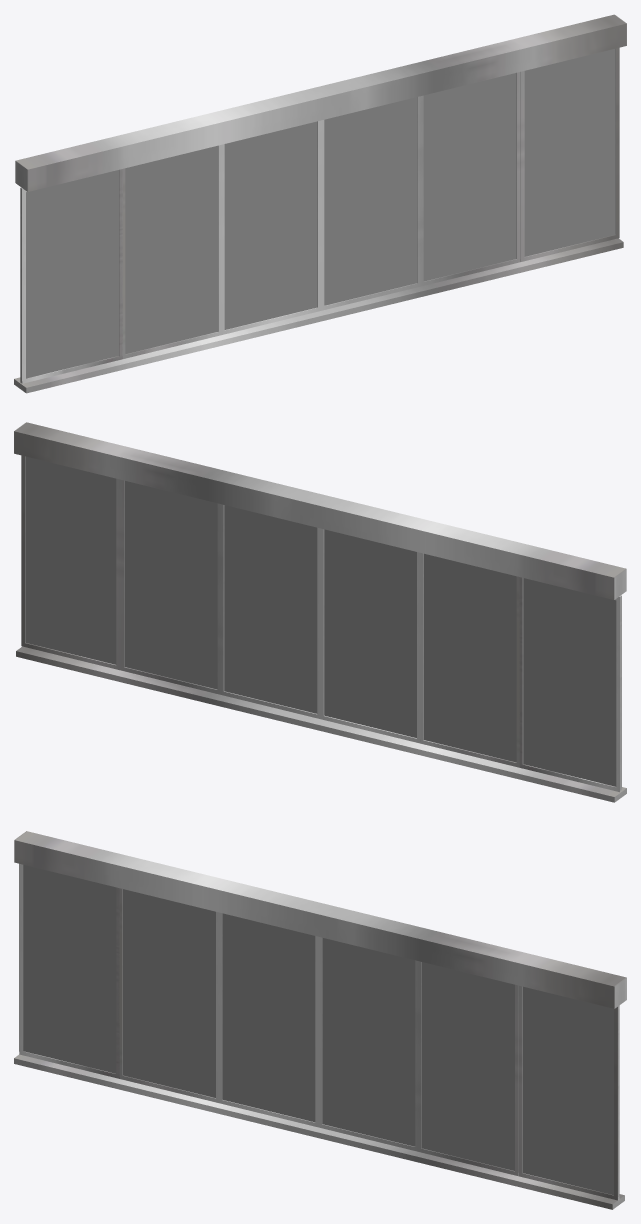
The model's file is door_auto.glb.
3 renders of one model, top to bottom at view 1: azimuth 30°, elevation 25°; view 2: azimuth 150°, elevation 25°; view 3: azimuth 330°, elevation 25°, orthographic.
Visible parts, largest first — view 1: pCube5_lambert2_0, pCube6_blinn1_0; view 2: pCube5_lambert2_0, pCube6_blinn1_0; view 3: pCube5_lambert2_0, pCube6_blinn1_0.
Part boxes in pixels (<box>): pCube5_lambert2_0: <box>26,48,615,378</box>; pCube6_blinn1_0: <box>14,14,626,393</box>; pCube5_lambert2_0: <box>25,456,616,786</box>; pCube6_blinn1_0: <box>14,422,626,802</box>; pCube5_lambert2_0: <box>23,865,613,1195</box>; pCube6_blinn1_0: <box>14,831,626,1209</box>.
Size of the model in its own units: 8.48 by 3.03 by 0.3159.
2 materials, 1 textured.
